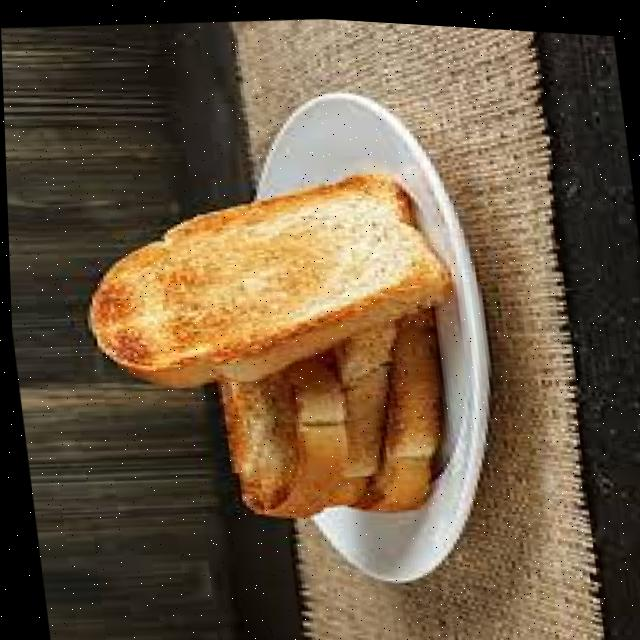Bread: (89, 171, 445, 382), (217, 349, 344, 512)
